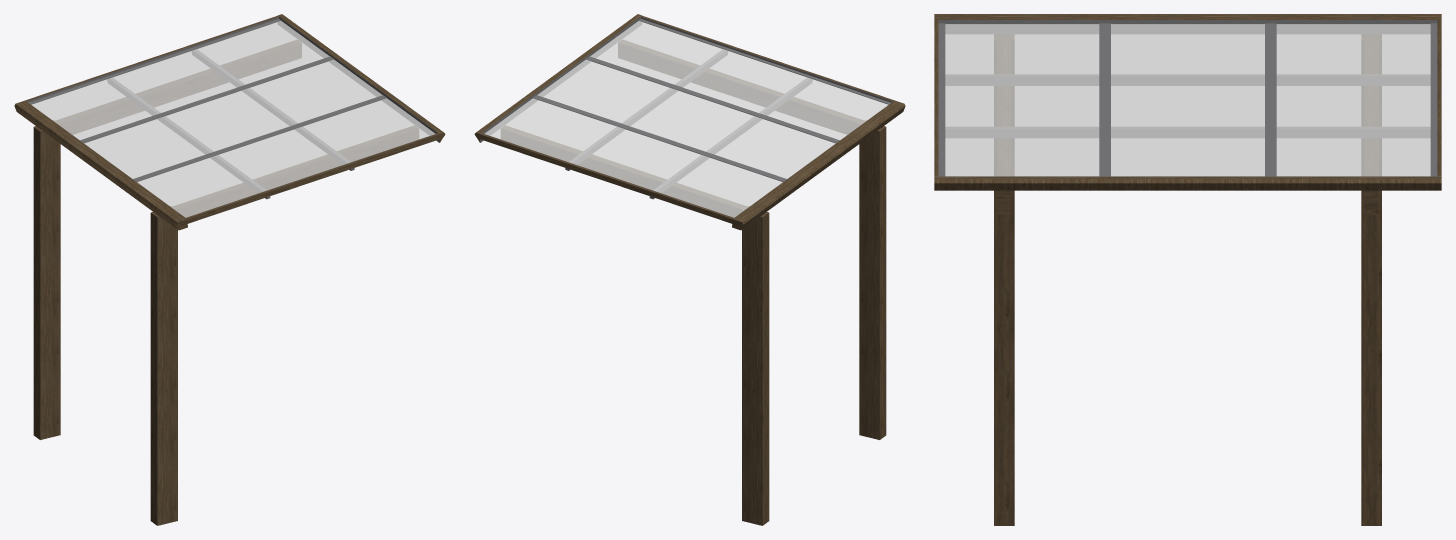
The model's file is 2121-22_brownebony.fbx.
The picture shows the model from 3 angles, left to right: view 1: azimuth 30°, elevation 25°; view 2: azimuth 150°, elevation 25°; view 3: azimuth 270°, elevation 25°; orthographic projection. The views are drawn at different scales.
Parts seen in each view (by area): view 1: 2121-22brownebony; view 2: 2121-22brownebony; view 3: 2121-22brownebony.
Part boxes in pixels (bbox=[...]): 2121-22brownebony: bbox=[14, 14, 445, 525]; 2121-22brownebony: bbox=[474, 14, 905, 525]; 2121-22brownebony: bbox=[934, 14, 1441, 525].
Size of the model in its own units: 210 by 255 by 219.
4 materials, 2 textured.
